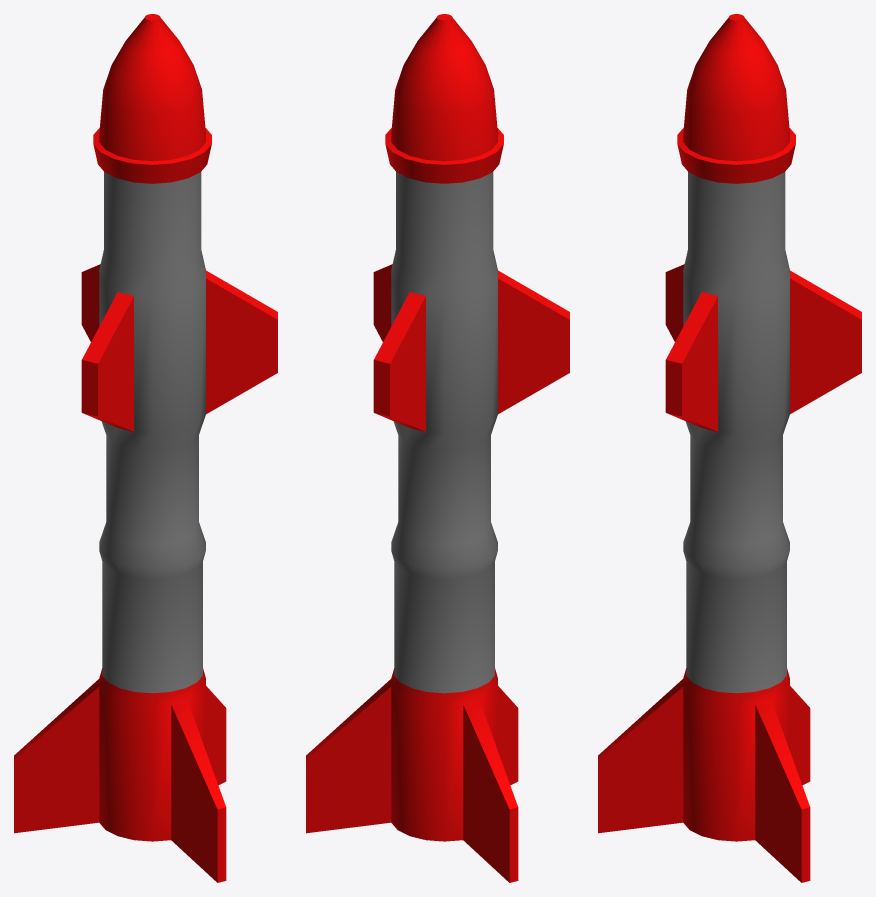
Rendered from missile.FBX.
3 views of the same model, side by side, from view 1: azimuth 30°, elevation 25°; view 2: azimuth 150°, elevation 25°; view 3: azimuth 270°, elevation 25° (orthographic).
Parts seen in each view (by area): view 1: Cylinder001; view 2: Cylinder001; view 3: Cylinder001.
Part boxes in pixels (x1=…): Cylinder001: x1=14, y1=14, x2=277, y2=882; Cylinder001: x1=306, y1=14, x2=569, y2=882; Cylinder001: x1=598, y1=14, x2=861, y2=882.
Size of the model in its own units: 10.61 by 38.87 by 11.42.
